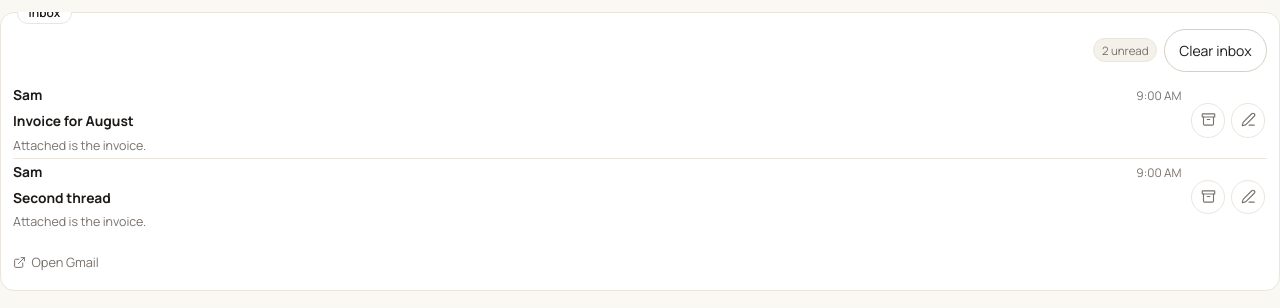
Test: GmailSummaryCard clear inbox › archives every listed thread and empties the list
The image size is (1280, 308).
Expected: the text "Second thread" is shown, [13,188,111,207]
What coordinates should you click on to do the following:
click the button "Clear inbox"
I would click on:
 (1215, 50)
Its box is [1164,29,1267,72].
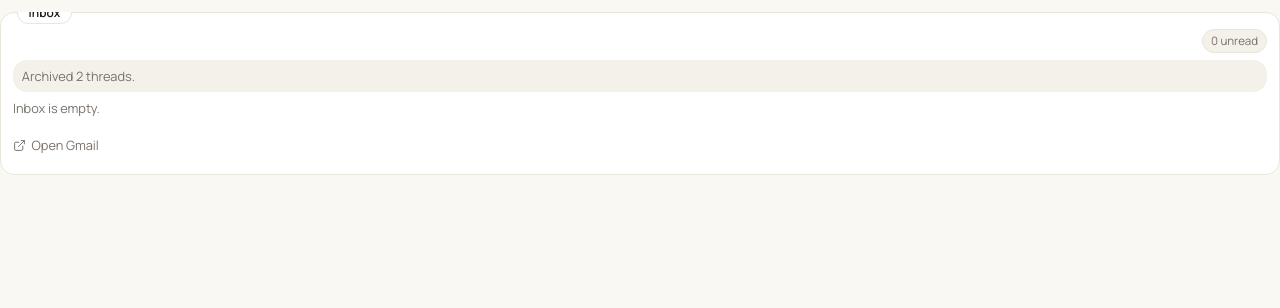
Now the text "Archived 2 threads." is shown, box [13,60,1267,92]
Now the text "Inbox is empty." is shown, box [13,99,100,117]
